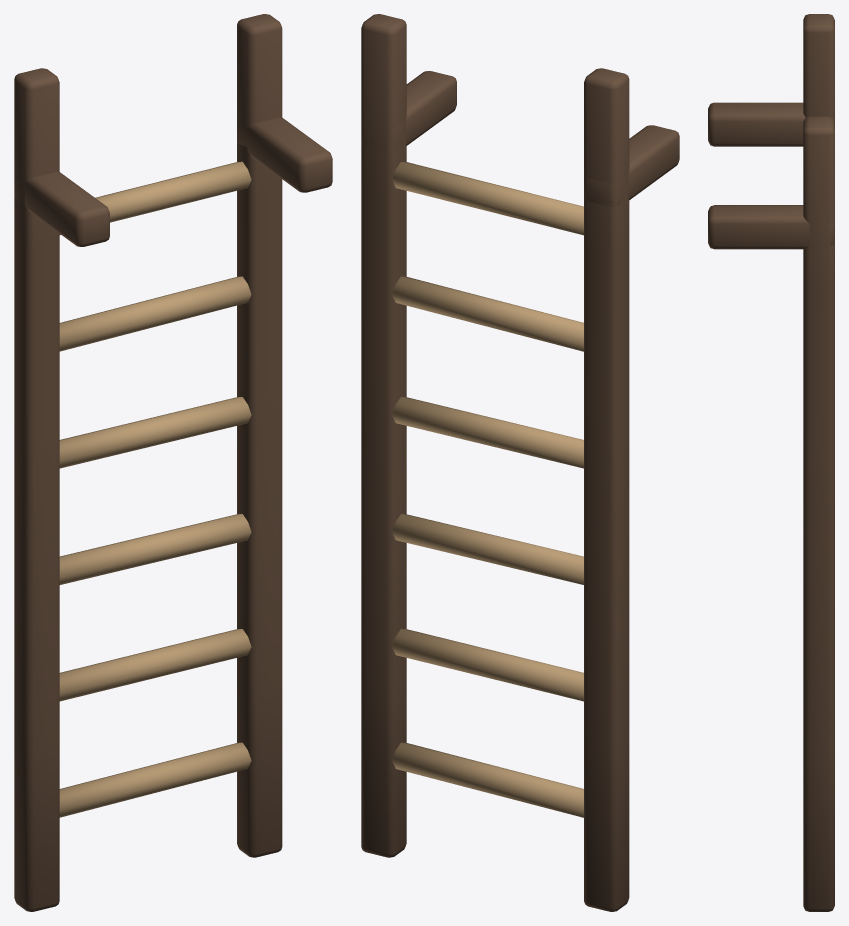
File: dock_ladder.glb
3 renders of one model, left to right at view 1: azimuth 30°, elevation 25°; view 2: azimuth 150°, elevation 25°; view 3: azimuth 270°, elevation 25°, orthographic. The views are drawn at different scales.
Parts seen in each view (by area): view 1: Dock_Ladder_Rails, Dock_Ladder_Rungs; view 2: Dock_Ladder_Rails, Dock_Ladder_Rungs; view 3: Dock_Ladder_Rails.
Part boxes in pixels (x1,y1,x2,y2): Dock_Ladder_Rails: [14, 14, 332, 911]; Dock_Ladder_Rungs: [59, 161, 251, 817]; Dock_Ladder_Rails: [361, 14, 679, 911]; Dock_Ladder_Rungs: [392, 162, 583, 817]; Dock_Ladder_Rails: [708, 14, 834, 911].
Bounding box in the file's own units: 0.53 × 1.64 × 0.24.
